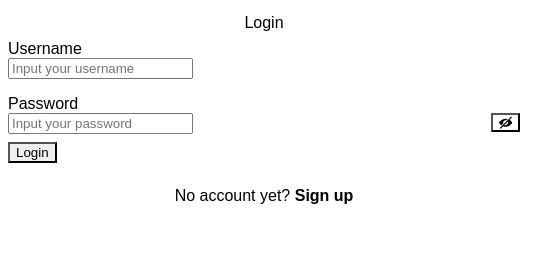
Login form Username-based component › should display error message on name
What coordinates should you click on to do the following:
click the button "Login"
I would click on:
 (32, 152)
Its box is [8,142,57,163].
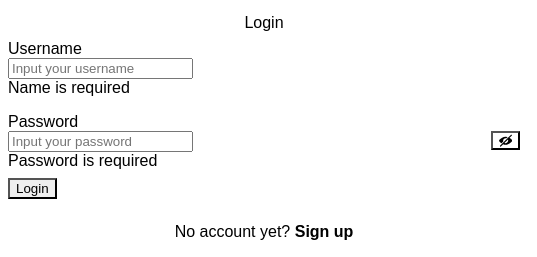
Result: the text "Name is required" is shown at [8,79,130,96]
